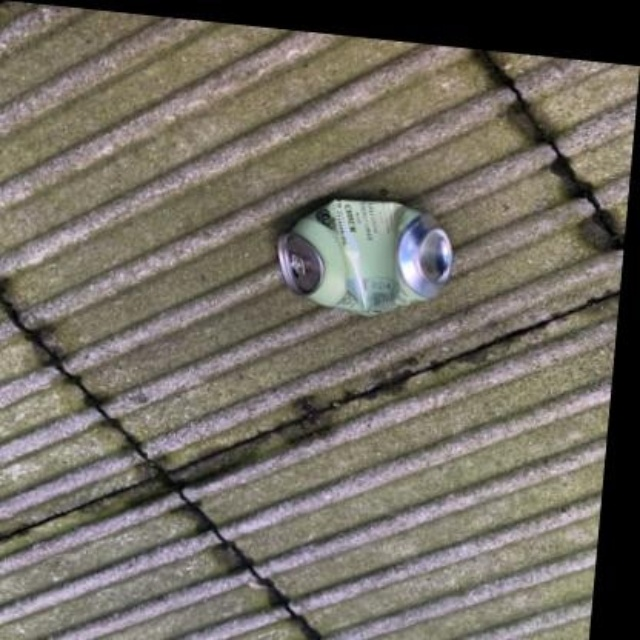trash: (277, 200, 451, 314)
